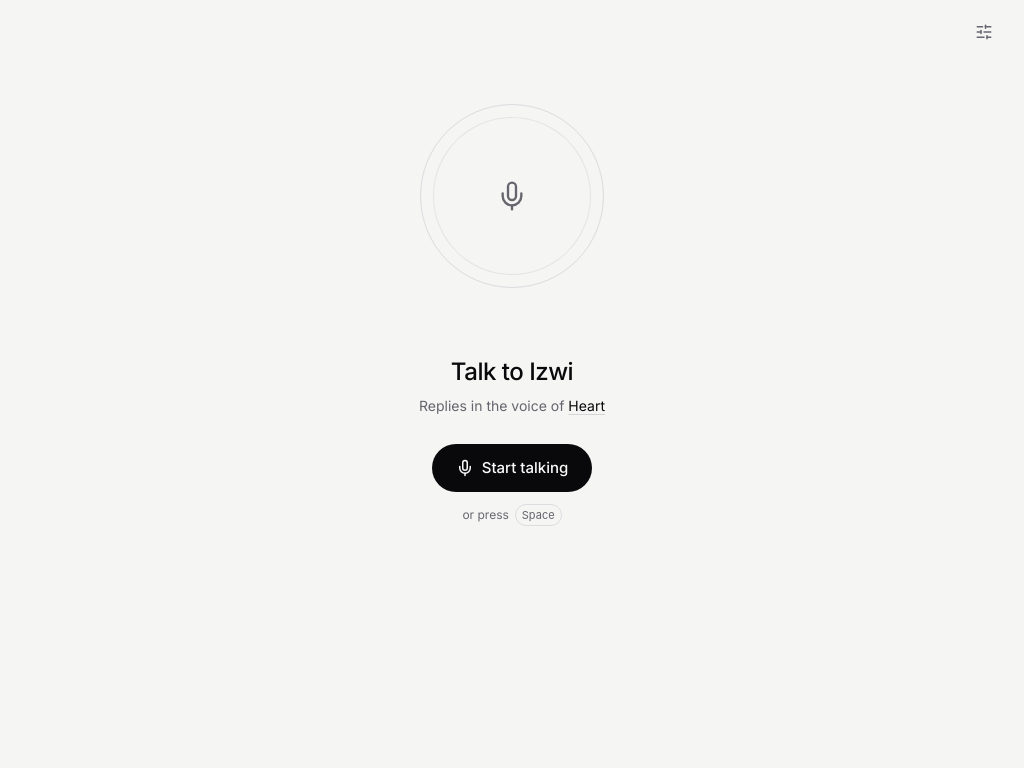
VoicePage conversation › mutes the microphone and ends with Space
This screenshot has width=1024, height=768.
Click the button "Start talking". click: click(512, 468)
box: x1=432 y1=444 x2=592 y2=492
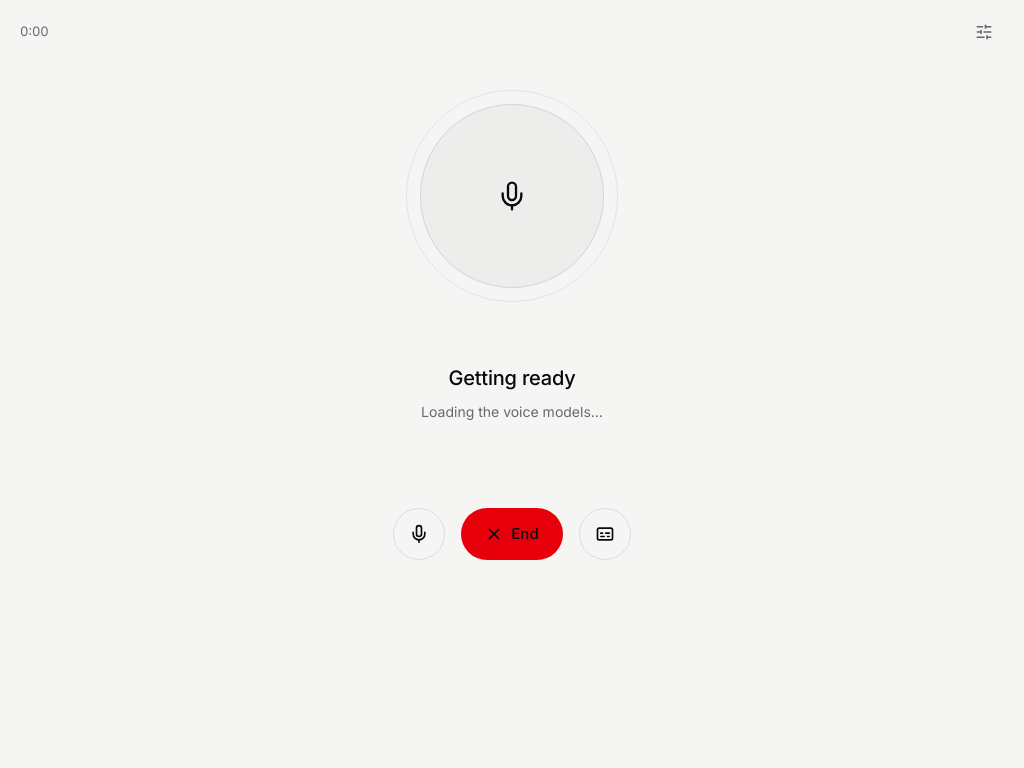
Click the button named "Mute microphone". click: click(419, 534)
box: x1=393 y1=508 x2=445 y2=560
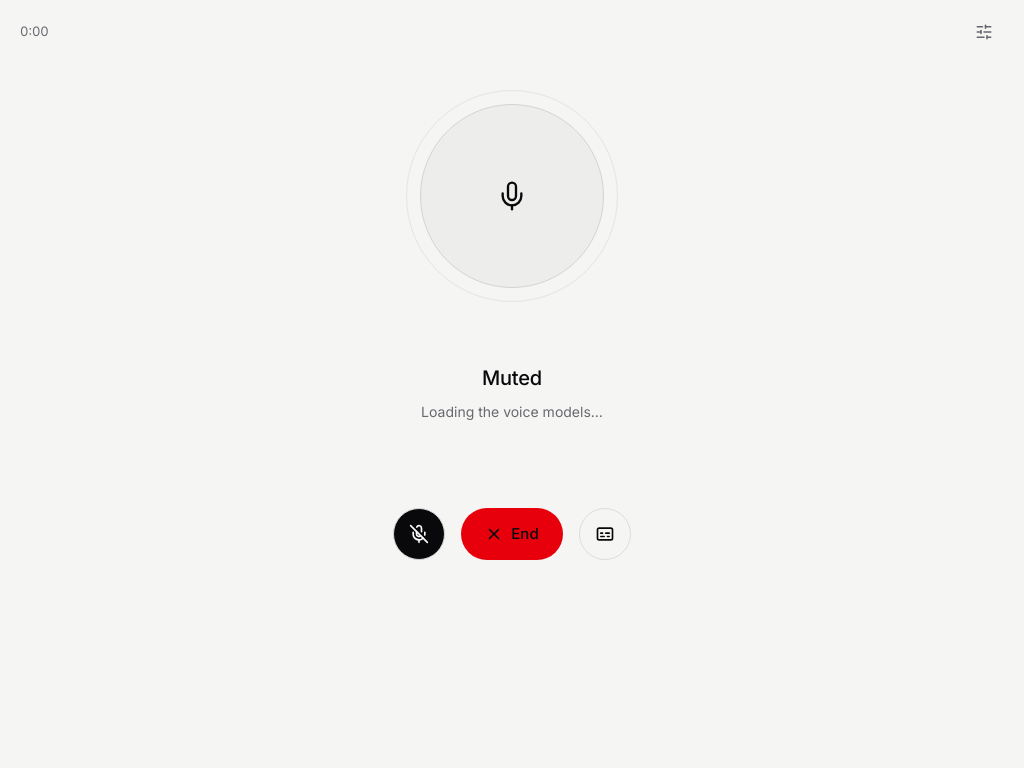
Expected: the message reads "Muted", x1=482 y1=366 x2=542 y2=390
Press Space
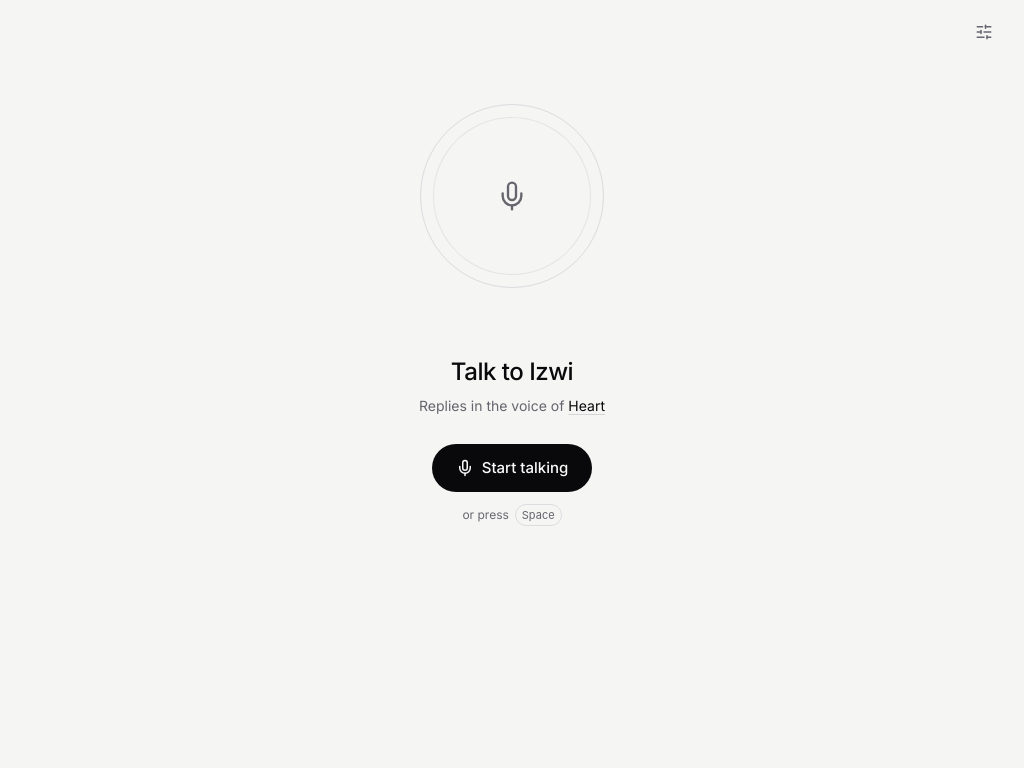
Expected: the button "Start talking" is shown, x1=432 y1=444 x2=592 y2=492
